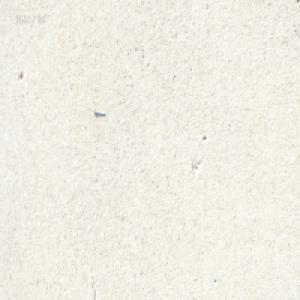Nail: (92, 107, 106, 115)
